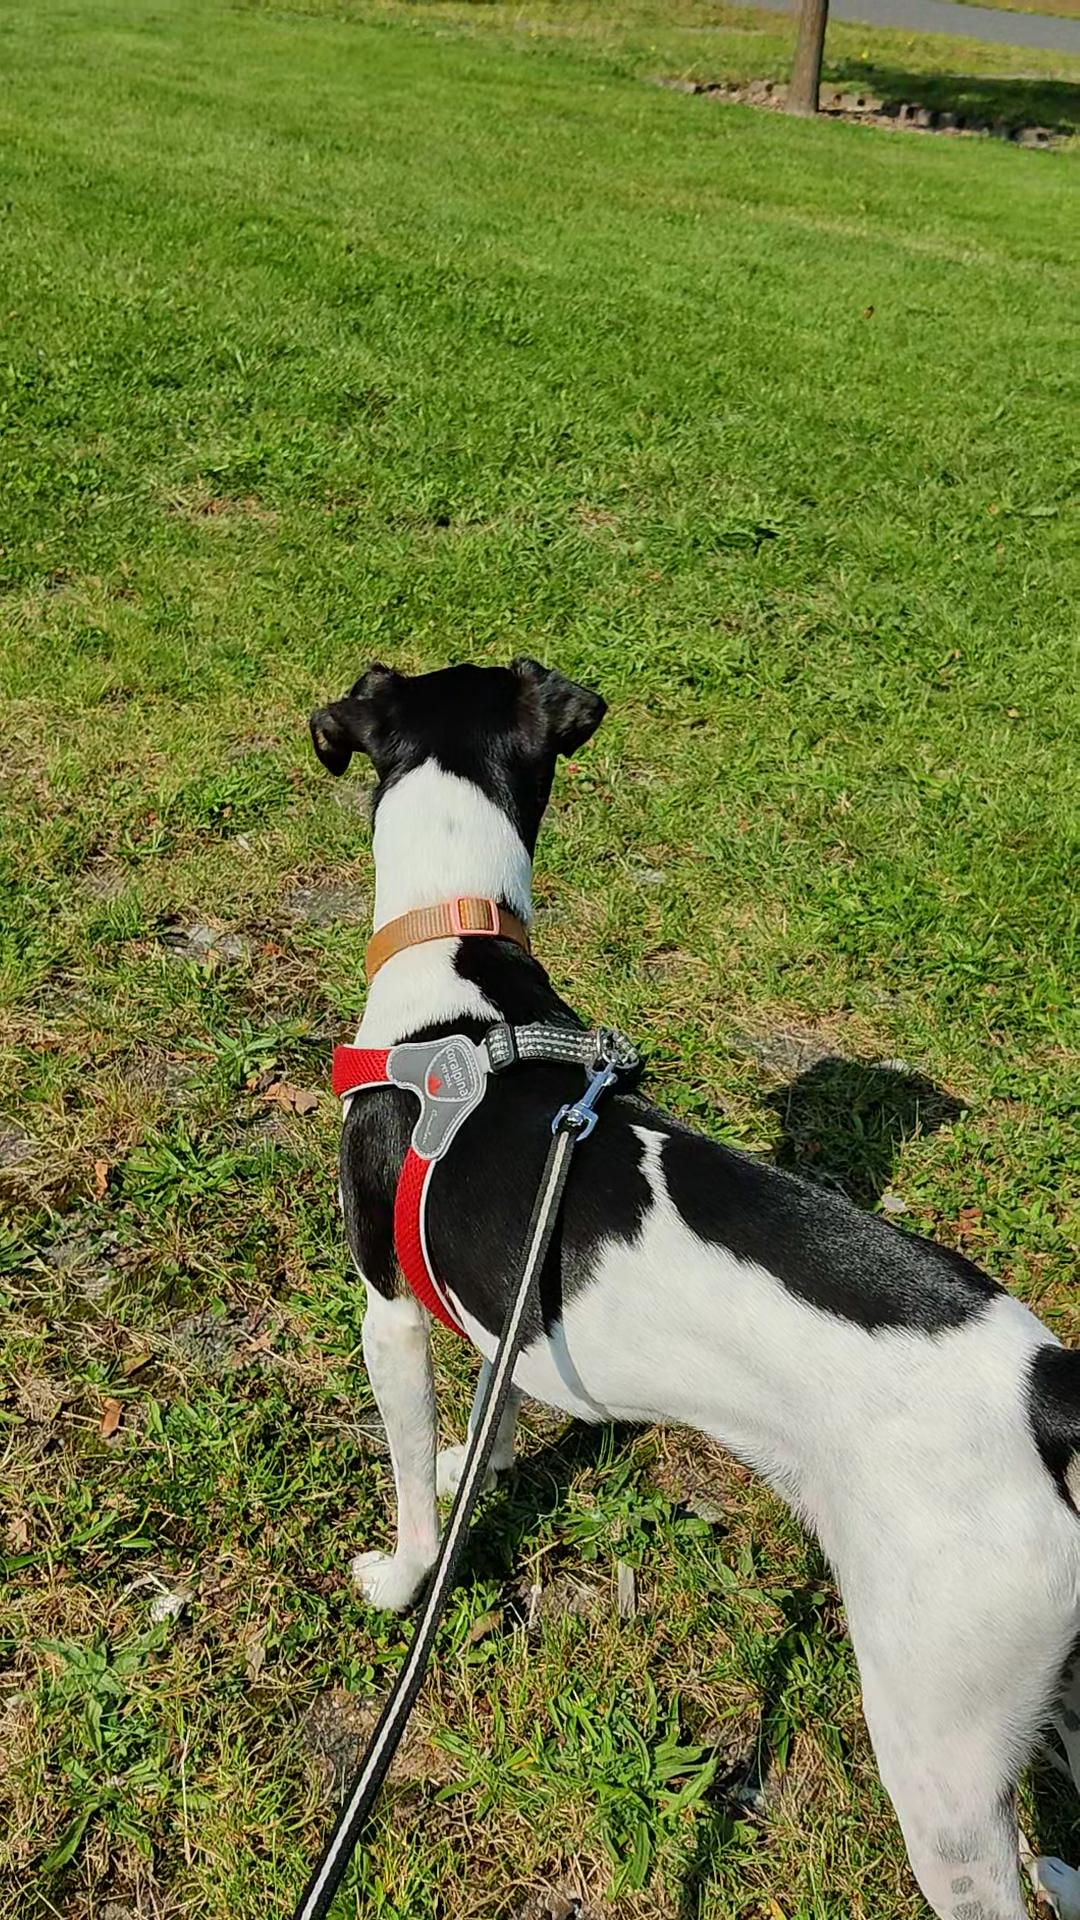Dog: (289, 624, 1079, 1919)
